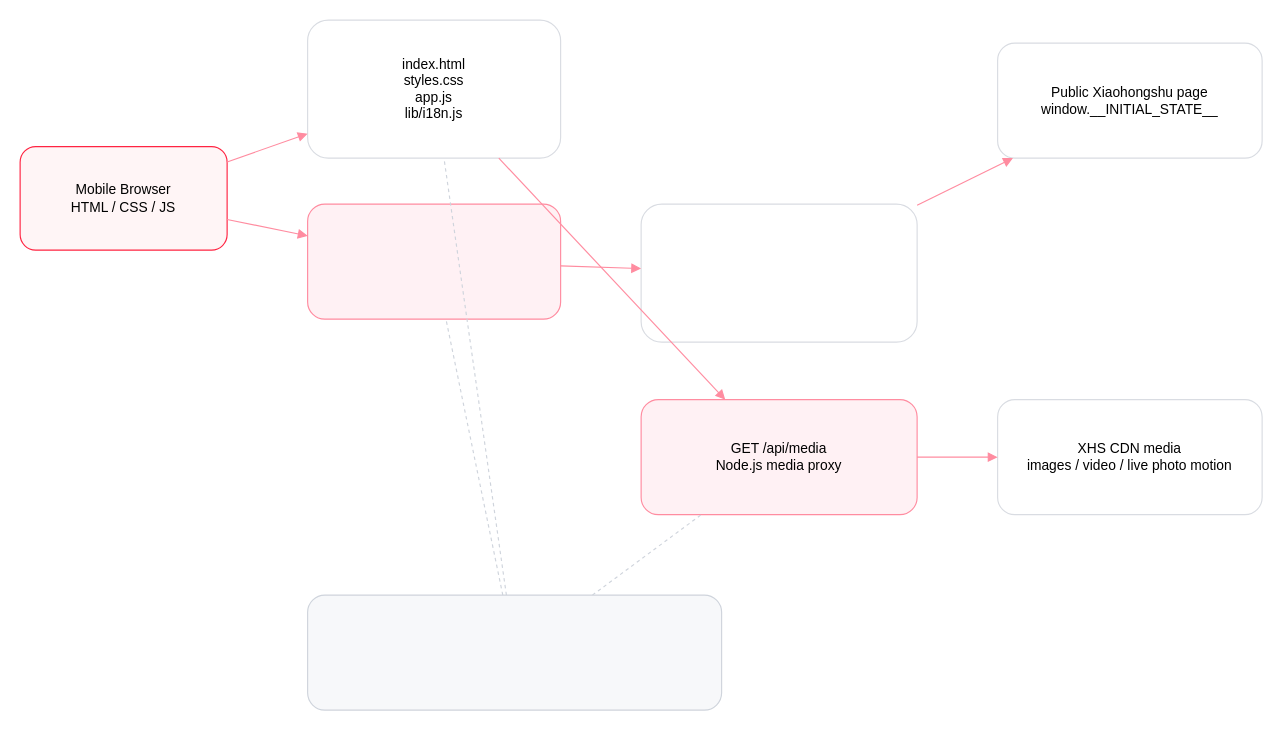
Image size: 1282x730. Some labels were removed from this diagram. The shapes that lost their labels are listed below. From the top down, each one's centre as x and y in pixels, then its label:
the point at 433,261: POST /api/capture Node.js Function
the point at 778,272: lib/xhs.js URL extract public page fetch state parse payload normalize
the point at 514,652: Vercel serverless deployment no DB / no cookies / no history
